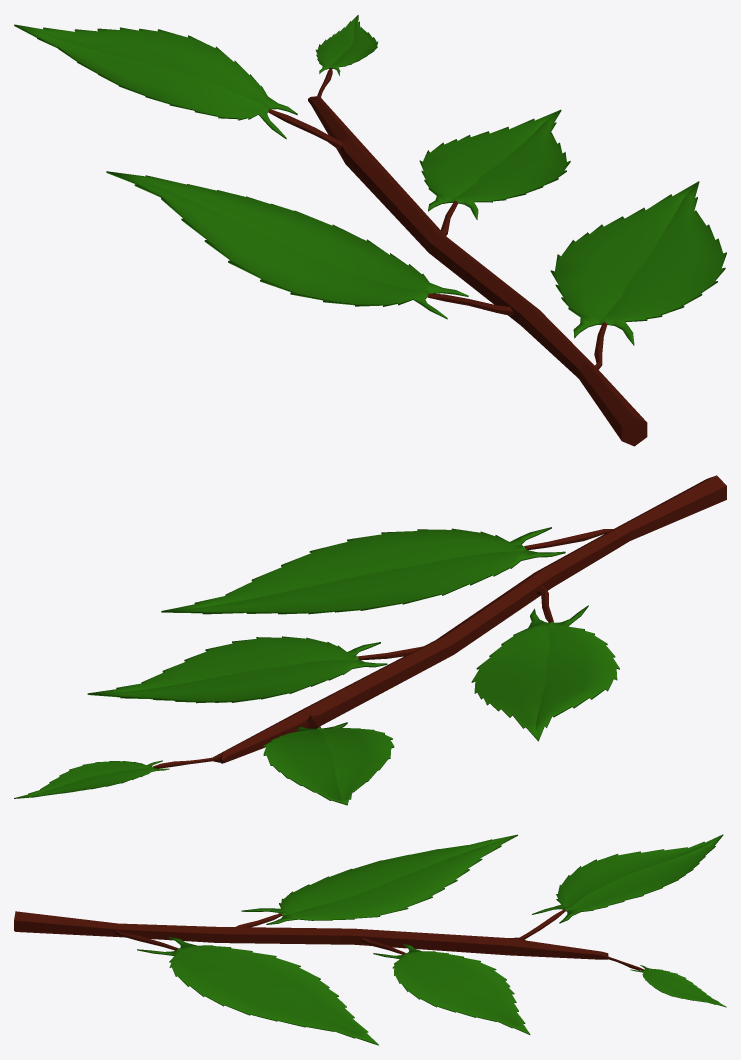
Rendered from SM_JuteLeafs_001.fbx.
3 views of the same model, one above another, from view 1: azimuth 30°, elevation 25°; view 2: azimuth 150°, elevation 25°; view 3: azimuth 270°, elevation 25° (orthographic). The views are drawn at different scales.
Visible parts, largest first — view 1: JuteLeaf; view 2: JuteLeaf; view 3: JuteLeaf.
Boxes of the visible parts, x1=… form: JuteLeaf: x1=14, y1=15, x2=726, y2=446; JuteLeaf: x1=14, y1=475, x2=726, y2=805; JuteLeaf: x1=14, y1=834, x2=726, y2=1045.
Size of the model in its own units: 36 by 6 by 64.
